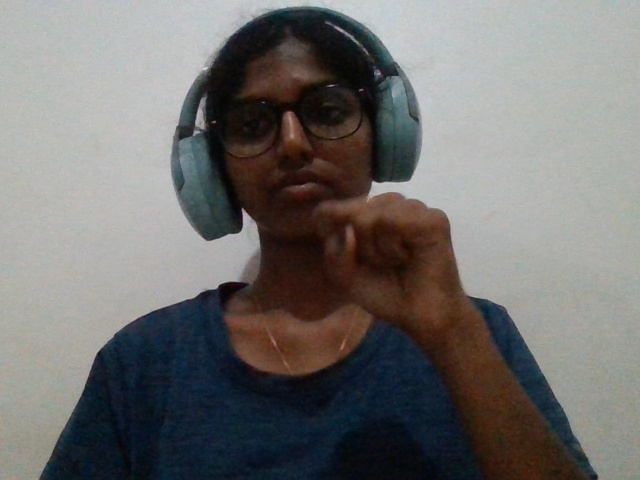Yes: (287, 161, 534, 396)
